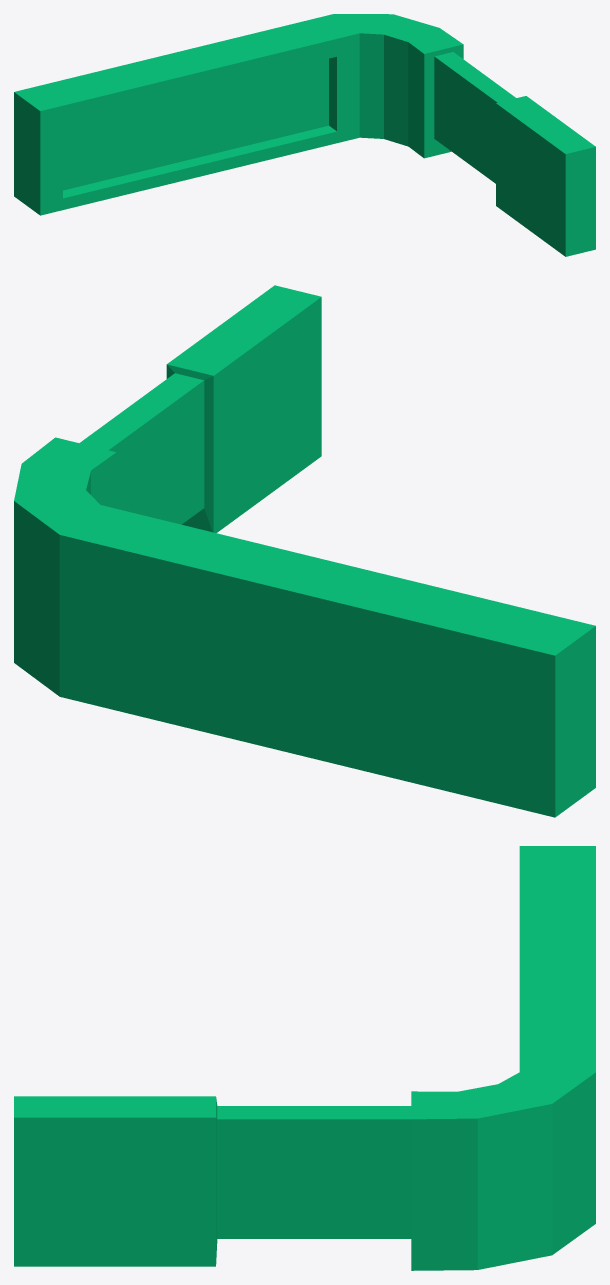
Rendered from VendorCounter.fbx.
The picture shows the model from 3 angles, top to bottom: view 1: azimuth 30°, elevation 25°; view 2: azimuth 150°, elevation 25°; view 3: azimuth 270°, elevation 25°; orthographic projection. The views are drawn at different scales.
Parts seen in each view (by area): view 1: Box010; view 2: Box010; view 3: Box010.
Part boxes in pixels (box(x1,y1,x2,y2)): Box010: box(14, 14, 595, 256); Box010: box(14, 285, 595, 817); Box010: box(14, 846, 595, 1270).
Size of the model in its own units: 190 by 49.14 by 171.
